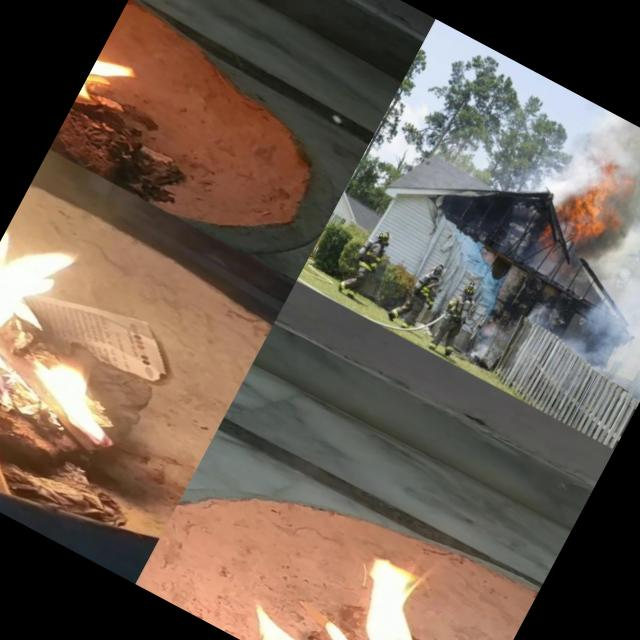fire: (0, 214, 185, 472), (232, 506, 458, 640), (49, 23, 164, 173), (550, 162, 626, 246)
smoke: (548, 134, 640, 384), (568, 104, 640, 186)
